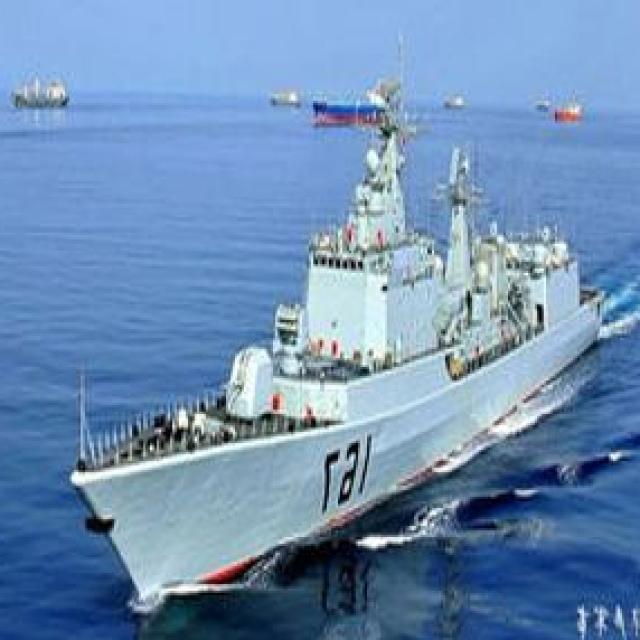navalvessels: (67, 119, 603, 603)
